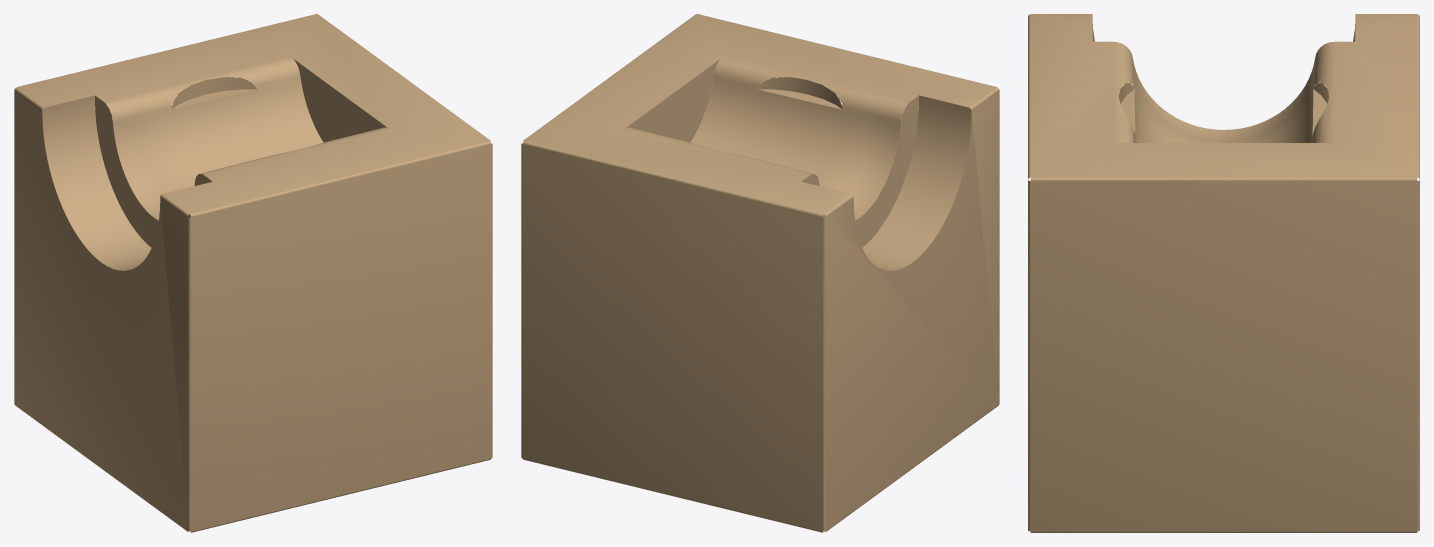
The model's file is blk_tower_socket_l3.glb.
The picture shows the model from 3 angles, left to right: view 1: azimuth 30°, elevation 25°; view 2: azimuth 150°, elevation 25°; view 3: azimuth 270°, elevation 25°; orthographic projection. The views are drawn at different scales.
Parts seen in each view (by area): view 1: blk_tower_socket_l3_lod0; view 2: blk_tower_socket_l3_lod0; view 3: blk_tower_socket_l3_lod0.
Boxes of the visible parts, x1,y1,x2,y2 form: blk_tower_socket_l3_lod0: [14, 14, 492, 532]; blk_tower_socket_l3_lod0: [521, 14, 999, 532]; blk_tower_socket_l3_lod0: [1028, 14, 1419, 532].
Size of what is drawn, in the model's own units: 0.0596 by 0.0596 by 0.0596.
